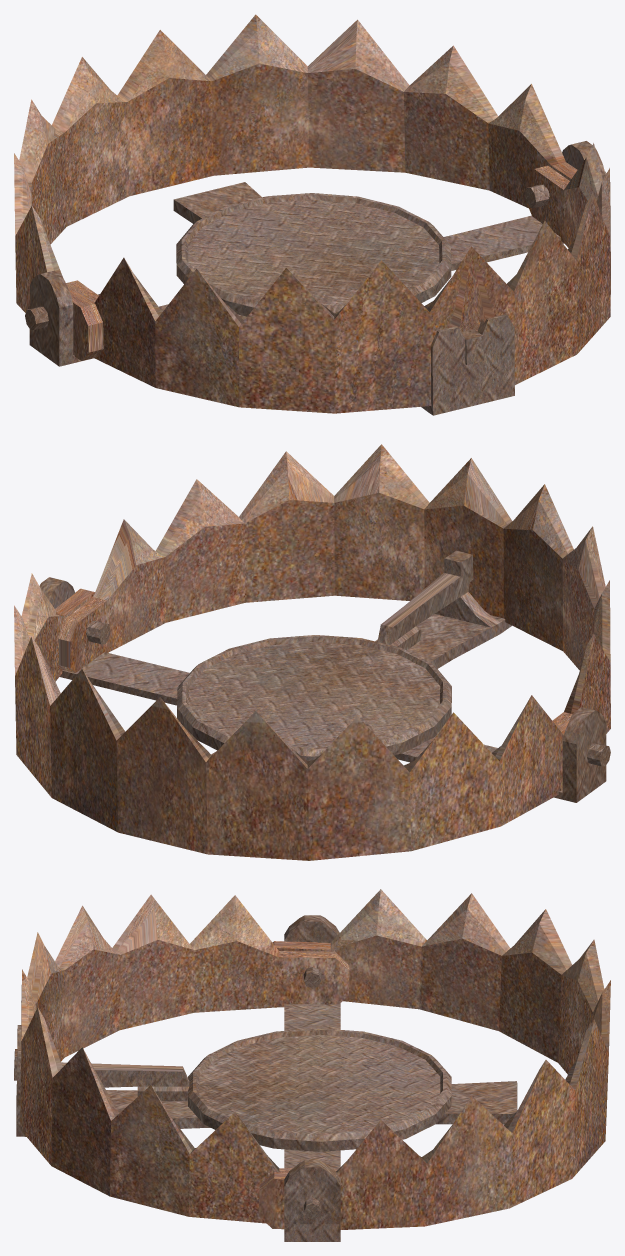
The model's file is BearTrap_Rendered.fbx.
3 renders of one model, top to bottom at view 1: azimuth 30°, elevation 25°; view 2: azimuth 150°, elevation 25°; view 3: azimuth 270°, elevation 25°, orthographic. The views are drawn at different scales.
Parts seen in each view (by area): view 1: Trap Half, Trap Second_half, Trap Base; view 2: Trap Half, Trap Second_half, Trap Base; view 3: Trap Half, Trap Second_half, Trap Base.
Boxes of the visible parts, x1=… form: Trap Half: x1=14, y1=14, x2=577, y2=360; Trap Second_half: x1=66, y1=143, x2=610, y2=413; Trap Base: x1=25, y1=141, x2=606, y2=415; Trap Half: x1=14, y1=573, x2=569, y2=860; Trap Second_half: x1=58, y1=444, x2=610, y2=733; Trap Base: x1=39, y1=550, x2=610, y2=802; Trap Half: x1=258, y1=889, x2=610, y2=1229; Trap Second_half: x1=20, y1=894, x2=349, y2=1223; Trap Base: x1=14, y1=915, x2=517, y2=1241.
Bounding box in the file's own units: 892 × 237 × 849.
